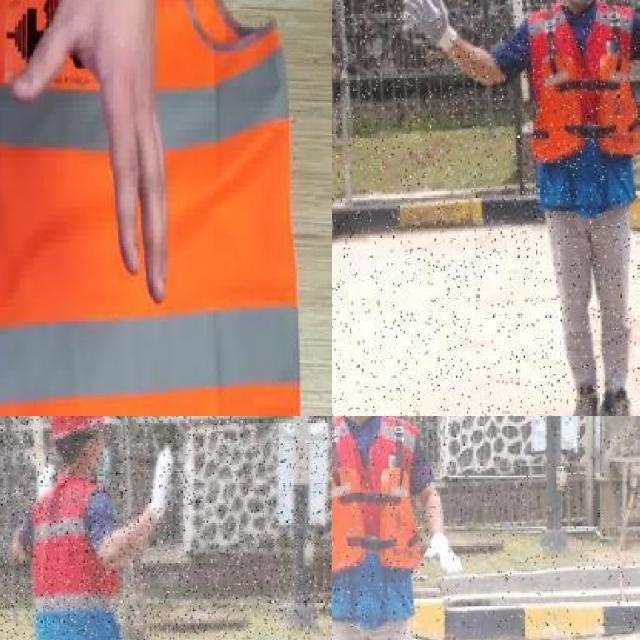apron: (400, 0, 459, 57), (142, 446, 176, 524), (424, 532, 464, 580), (36, 460, 56, 506)
